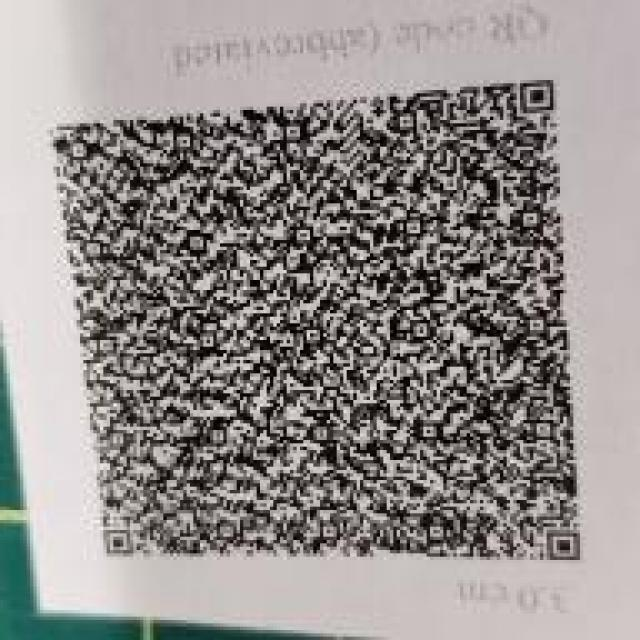QR_CODE: (30, 66, 603, 596)
